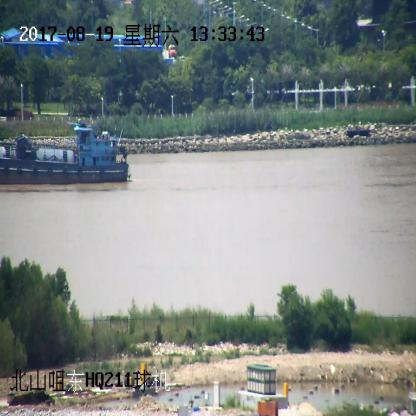Bulk Carrier: (0, 124, 130, 182)
